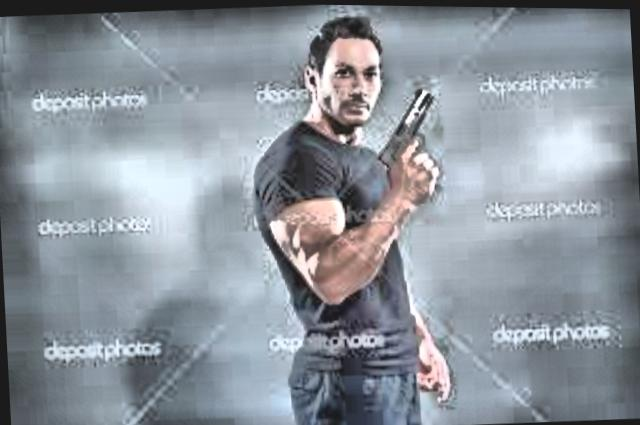pistol: (368, 85, 434, 168)
